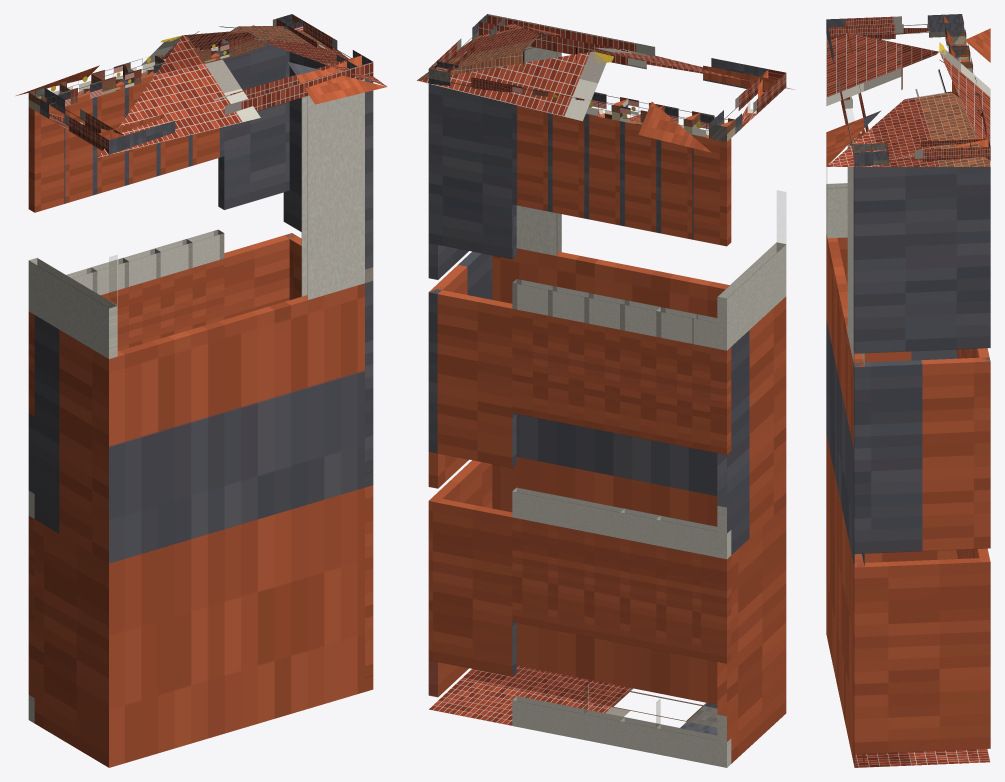
The picture shows the model from 3 angles, left to right: view 1: azimuth 30°, elevation 25°; view 2: azimuth 150°, elevation 25°; view 3: azimuth 270°, elevation 25°; orthographic projection. The views are drawn at different scales.
Parts seen in each view (by area): view 1: 238636767__wall_9_xb, 238636767__wall_8_xb, 238636767__wall_1_xb, 238636767_roof_front_xb, 238636767__wall_0_xb, 238636767__wall_7_xb, 238636767__wall_4_xb, 238636767__wall_5_xb, 238636767__wall_2_xb, 238636767__wall_3_xb, 238636767__cornice_9, 238636767__wall_6_xb (+6 smaller); view 2: 238636767__wall_1_xb, 238636767__wall_9_xb, 238636767__wall_8_xb, 238636767__wall_7_xb, 238636767__wall_5_xb, 238636767__wall_3_xb, 238636767__wall_4_xb, 238636767__wall_6_xb, 238636767__wall_2_xb, 238636767__base, 238636767_roof_back_xb, 238636767__wall_0_xb (+7 smaller); view 3: 238636767__wall_0_xb, 238636767__wall_9_xb, 238636767_roof_right_xb, 238636767_roof_front_xb, 238636767__wall_8_xb, 238636767_roof_back_xb, 238636767__cornice_8, 238636767__base, 238636767__cornice_0, 238636767__cornice_9, 238636767__cornice_6, 238636767__wall_1_xb.
Boxes of the visible parts, x1=… form: 238636767__wall_9_xb: x1=109, y1=79, x2=373, y2=767; 238636767__wall_8_xb: x1=28, y1=258, x2=117, y2=767; 238636767__wall_1_xb: x1=218, y1=42, x2=295, y2=319; 238636767_roof_front_xb: x1=98, y1=35, x2=386, y2=157; 238636767__wall_0_xb: x1=283, y1=52, x2=373, y2=677; 238636767__wall_7_xb: x1=28, y1=105, x2=65, y2=723; 238636767__wall_4_xb: x1=124, y1=70, x2=160, y2=347; 238636767__wall_5_xb: x1=91, y1=79, x2=128, y2=350; 238636767__wall_2_xb: x1=186, y1=50, x2=224, y2=328; 238636767__wall_3_xb: x1=155, y1=134, x2=192, y2=338; 238636767__cornice_9: x1=98, y1=55, x2=373, y2=154; 238636767__wall_6_xb: x1=65, y1=89, x2=97, y2=293; 238636767__wall_1_xb: x1=428, y1=84, x2=516, y2=676; 238636767__wall_9_xb: x1=492, y1=46, x2=729, y2=704; 238636767__wall_8_xb: x1=717, y1=242, x2=786, y2=767; 238636767__wall_7_xb: x1=692, y1=135, x2=731, y2=767; 238636767__wall_5_xb: x1=620, y1=117, x2=660, y2=753; 238636767__wall_3_xb: x1=548, y1=113, x2=588, y2=739; 238636767__wall_4_xb: x1=584, y1=113, x2=623, y2=746; 238636767__wall_6_xb: x1=656, y1=139, x2=696, y2=760; 238636767__wall_2_xb: x1=512, y1=104, x2=552, y2=732; 238636767__base: x1=429, y1=665, x2=717, y2=735; 238636767_roof_back_xb: x1=417, y1=51, x2=711, y2=152; 238636767__wall_0_xb: x1=428, y1=243, x2=492, y2=696; 238636767__wall_0_xb: x1=853, y1=167, x2=990, y2=754; 238636767__wall_9_xb: x1=826, y1=137, x2=864, y2=767; 238636767_roof_right_xb: x1=827, y1=42, x2=990, y2=166; 238636767_roof_front_xb: x1=826, y1=33, x2=938, y2=166; 238636767__wall_8_xb: x1=826, y1=183, x2=958, y2=562; 238636767_roof_back_xb: x1=939, y1=28, x2=990, y2=166; 238636767__cornice_8: x1=828, y1=14, x2=963, y2=39; 238636767__base: x1=854, y1=749, x2=990, y2=767; 238636767__cornice_0: x1=852, y1=139, x2=990, y2=165; 238636767__cornice_9: x1=826, y1=18, x2=873, y2=166; 238636767__cornice_6: x1=946, y1=29, x2=968, y2=59; 238636767__wall_1_xb: x1=972, y1=348, x2=990, y2=561.
Size of the model in its own units: 0.5192 by 1.13 by 0.2597.
Materials: 1 (1 with a texture image).
